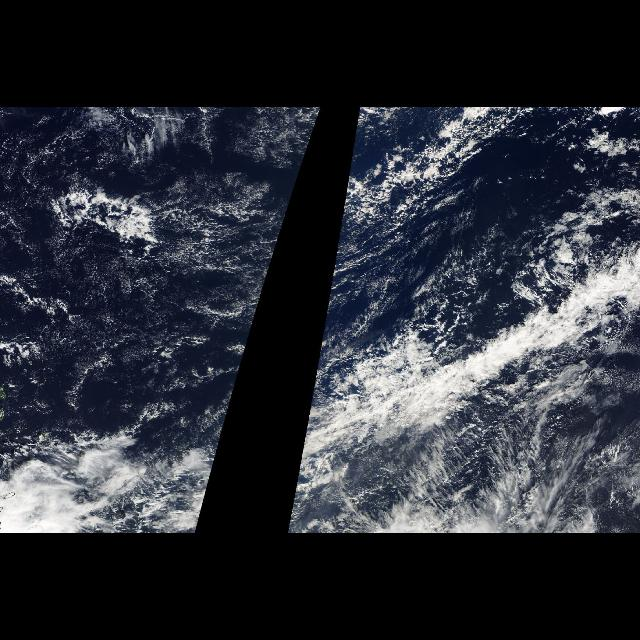Fish: (298, 108, 640, 470), (232, 107, 324, 399)
Gravel: (313, 111, 639, 381), (9, 111, 320, 381), (387, 407, 639, 529)
Sugar: (0, 108, 290, 414)
